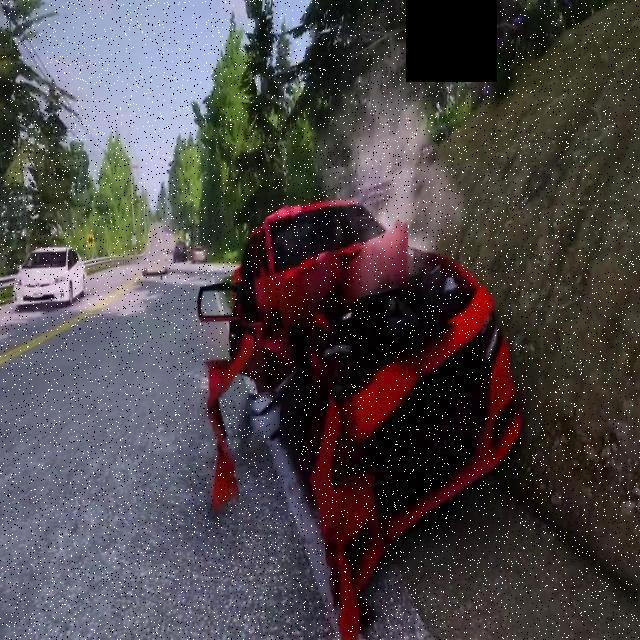severe: (192, 188, 530, 638)
